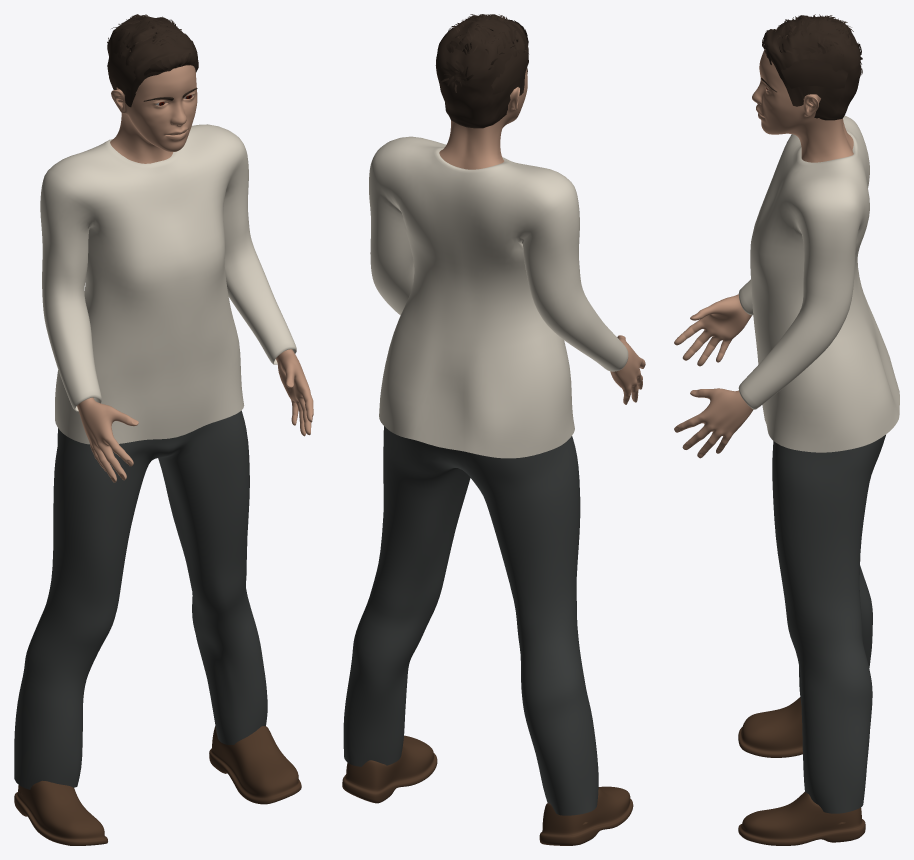
The model's file is person.glb.
3 views of the same model, side by side, from view 1: azimuth 30°, elevation 25°; view 2: azimuth 150°, elevation 25°; view 3: azimuth 270°, elevation 25° (orthographic). The views are drawn at different scales.
Visible parts, largest first — view 1: MakeClothes casual shirt and trousers, MakeHuman HM08 body, MakeClothes shoes, MakeHuman short hair; view 2: MakeClothes casual shirt and trousers, MakeHuman short hair, MakeClothes shoes, MakeHuman HM08 body; view 3: MakeClothes casual shirt and trousers, MakeHuman HM08 body, MakeHuman short hair, MakeClothes shoes.
Part boxes in pixels (bbox=[...]): MakeClothes casual shirt and trousers: bbox=[14, 124, 296, 789]; MakeHuman HM08 body: bbox=[77, 65, 313, 482]; MakeClothes shoes: bbox=[14, 726, 301, 845]; MakeHuman short hair: bbox=[107, 14, 198, 107]; MakeClothes casual shirt and trousers: bbox=[343, 136, 628, 815]; MakeHuman short hair: bbox=[435, 14, 528, 128]; MakeClothes shoes: bbox=[342, 735, 633, 845]; MakeHuman HM08 body: bbox=[439, 68, 645, 404]; MakeClothes casual shirt and trousers: bbox=[738, 115, 899, 813]; MakeHuman HM08 body: bbox=[674, 49, 853, 458]; MakeHuman short hair: bbox=[762, 14, 862, 120]; MakeClothes shoes: bbox=[738, 697, 865, 845].
Size of the model in its own units: 0.5681 by 1.7 by 0.448.
Materials: 6 (1 with a texture image).
